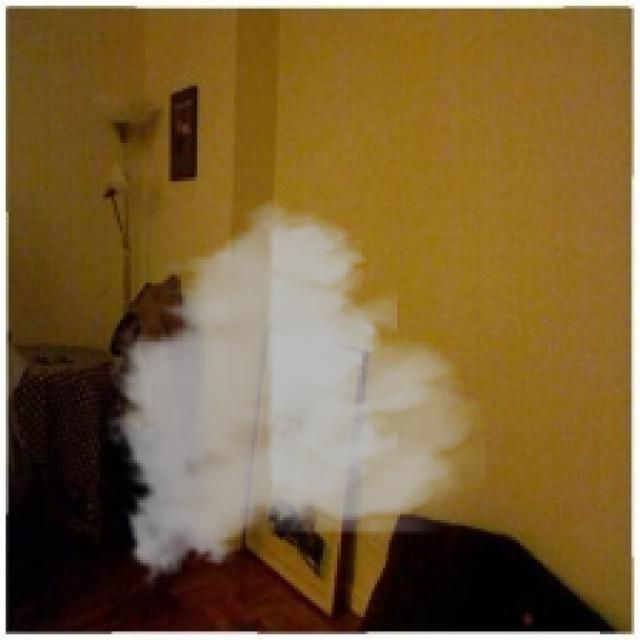smoke: (103, 189, 486, 594)
